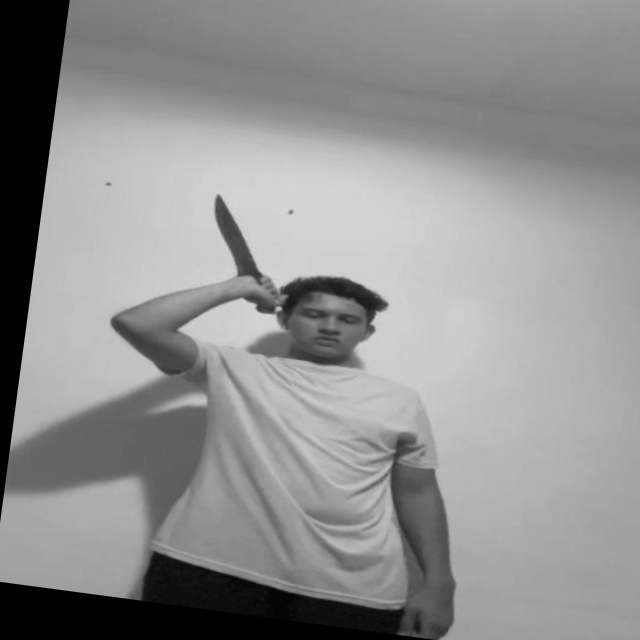Sharp-Object: (200, 193, 267, 275)
